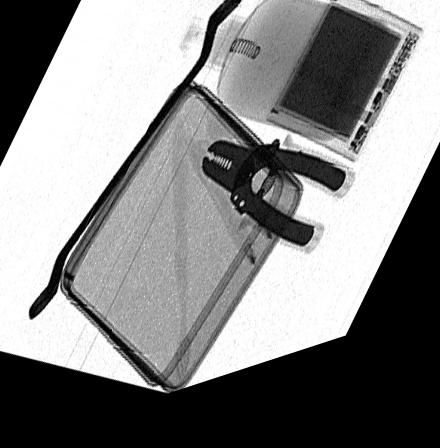Pliers: (200, 150, 345, 265)
Powerbank: (265, 8, 421, 183)
Wrench: (29, 2, 241, 319)
